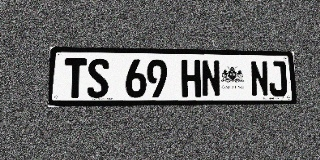6: (126, 59, 146, 98)
9: (147, 59, 167, 97)
H: (181, 60, 201, 97)
J: (268, 61, 287, 96)
N: (201, 60, 221, 97), (250, 61, 269, 97)
S: (87, 58, 109, 98)
T: (64, 58, 87, 98)
